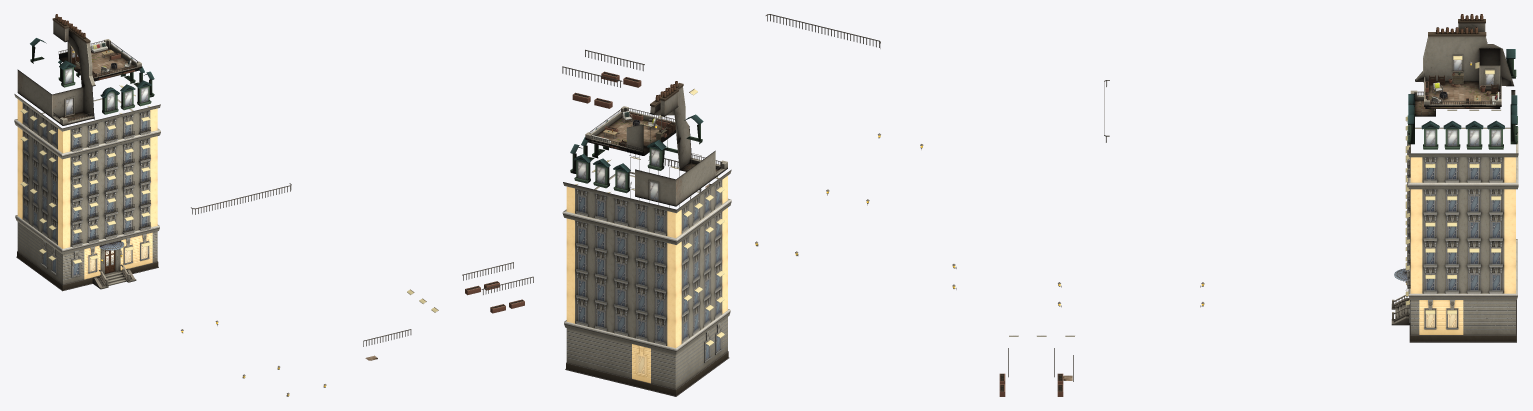
The model's file is t1_b_hotelz.glb.
The picture shows the model from 3 angles, left to right: view 1: azimuth 30°, elevation 25°; view 2: azimuth 150°, elevation 25°; view 3: azimuth 270°, elevation 25°; orthographic projection. The views are drawn at different scales.
Parts seen in each view (by area): view 1: t1_b_hotelz_building; view 2: t1_b_hotelz_building; view 3: t1_b_hotelz_building.
Boxes of the visible parts, x1,y1,x2,y2 form: t1_b_hotelz_building: [14, 14, 533, 396]; t1_b_hotelz_building: [562, 14, 923, 396]; t1_b_hotelz_building: [952, 14, 1518, 396].
Size of the model in its own units: 39.8 by 31.33 by 55.94.
8 materials, 7 textured.
